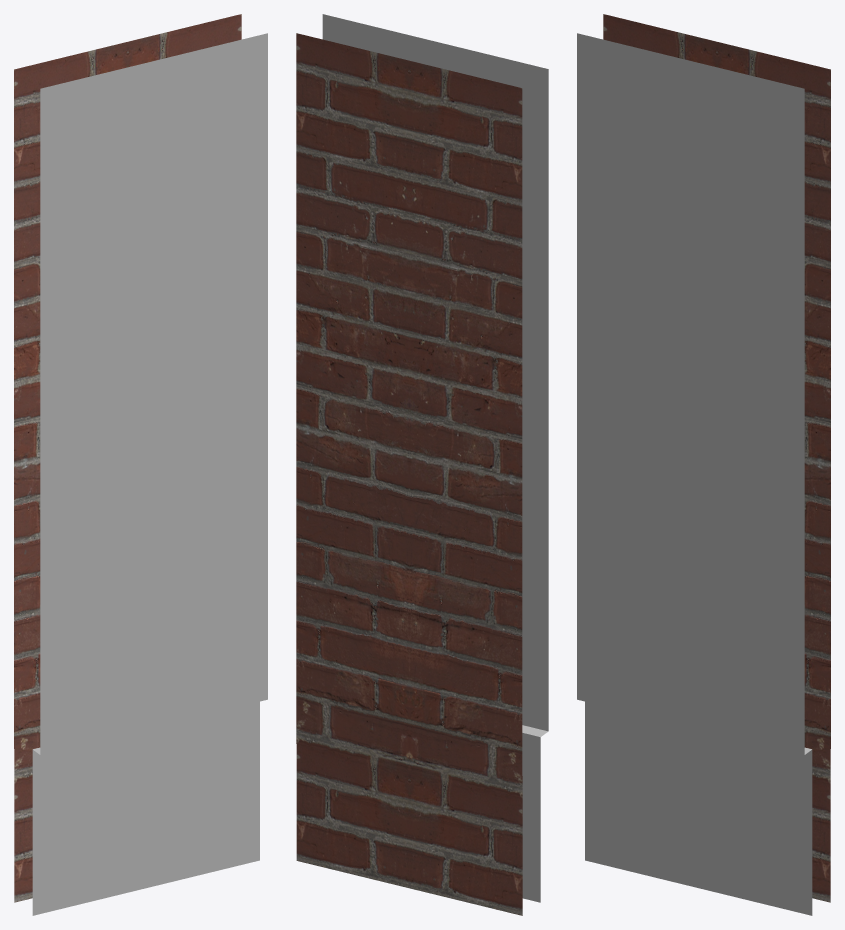
Rendered from In_WallDown_1x.FBX.
3 renders of one model, left to right at view 1: azimuth 30°, elevation 25°; view 2: azimuth 150°, elevation 25°; view 3: azimuth 330°, elevation 25°, orthographic.
Parts seen in each view (by area): view 1: WallDown_1x; view 2: WallDown_1x; view 3: WallDown_1x.
Part boxes in pixels (x1,y1,x2,y2): WallDown_1x: (14,14,267,915); WallDown_1x: (296,14,548,915); WallDown_1x: (577,14,830,915).
Size of the model in its own units: 100 by 350 by 20.
